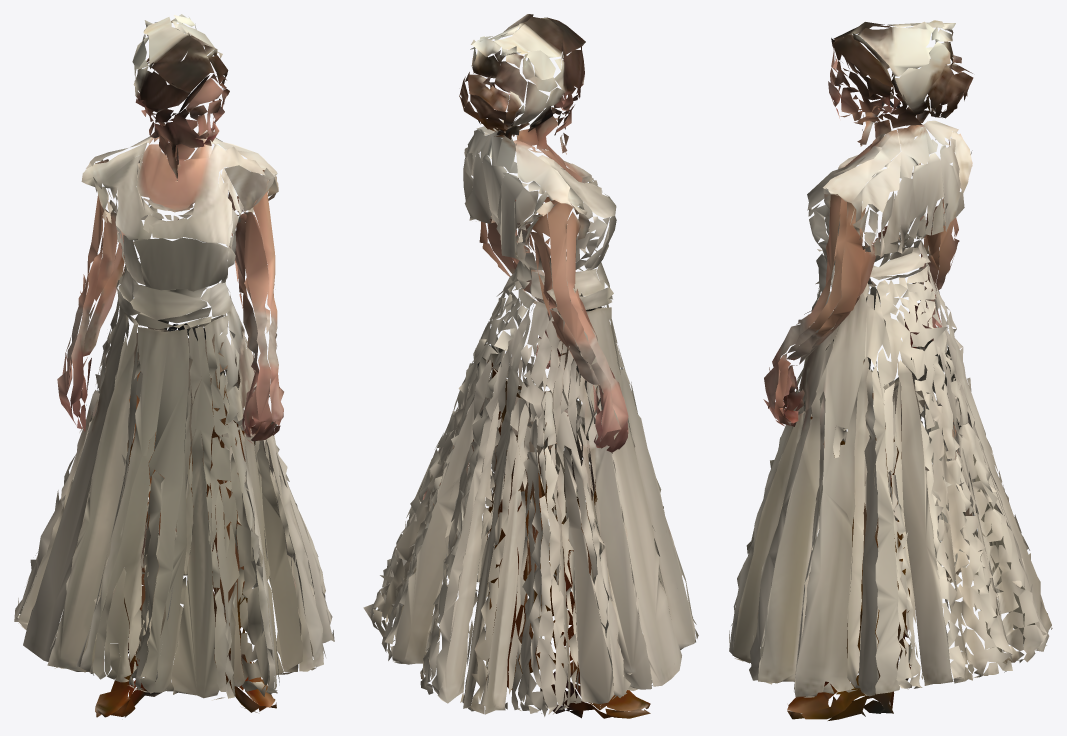
File: char_adult_f_simple.glb
3 renders of one model, left to right at view 1: azimuth 30°, elevation 25°; view 2: azimuth 150°, elevation 25°; view 3: azimuth 270°, elevation 25°, orthographic. The views are drawn at different scales.
Visible parts, largest first — view 1: geometry_0; view 2: geometry_0; view 3: geometry_0.
Boxes of the visible parts, bbox=[...] form: geometry_0: bbox=[14, 14, 334, 717]; geometry_0: bbox=[363, 14, 698, 718]; geometry_0: bbox=[729, 20, 1052, 720].
Size of the model in its own units: 0.7722 by 1.7 by 0.7413.
Materials: 1 (1 with a texture image).
